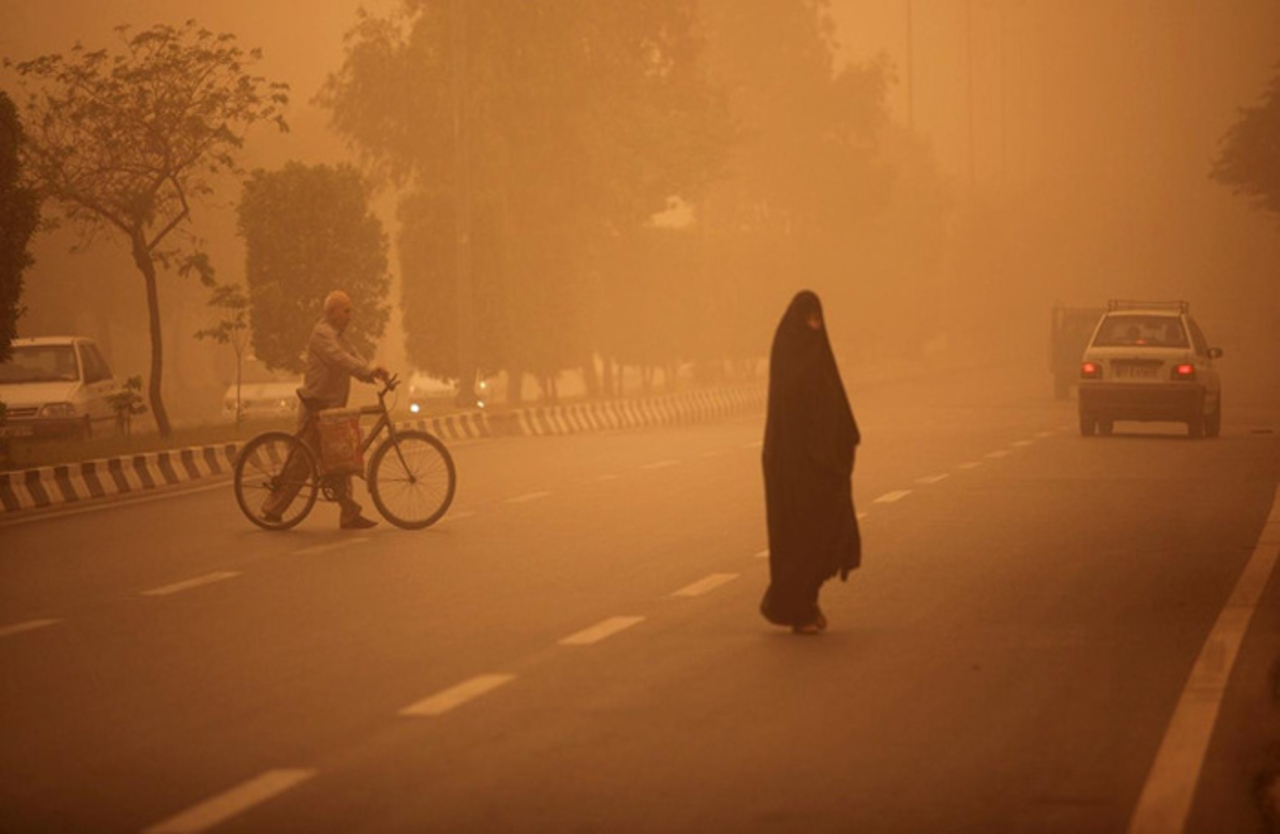bicycle: (232, 377, 457, 533)
car: (1072, 306, 1226, 440), (0, 333, 134, 434), (1049, 298, 1146, 400), (220, 349, 308, 409)
person: (761, 292, 863, 641), (297, 286, 388, 499)
